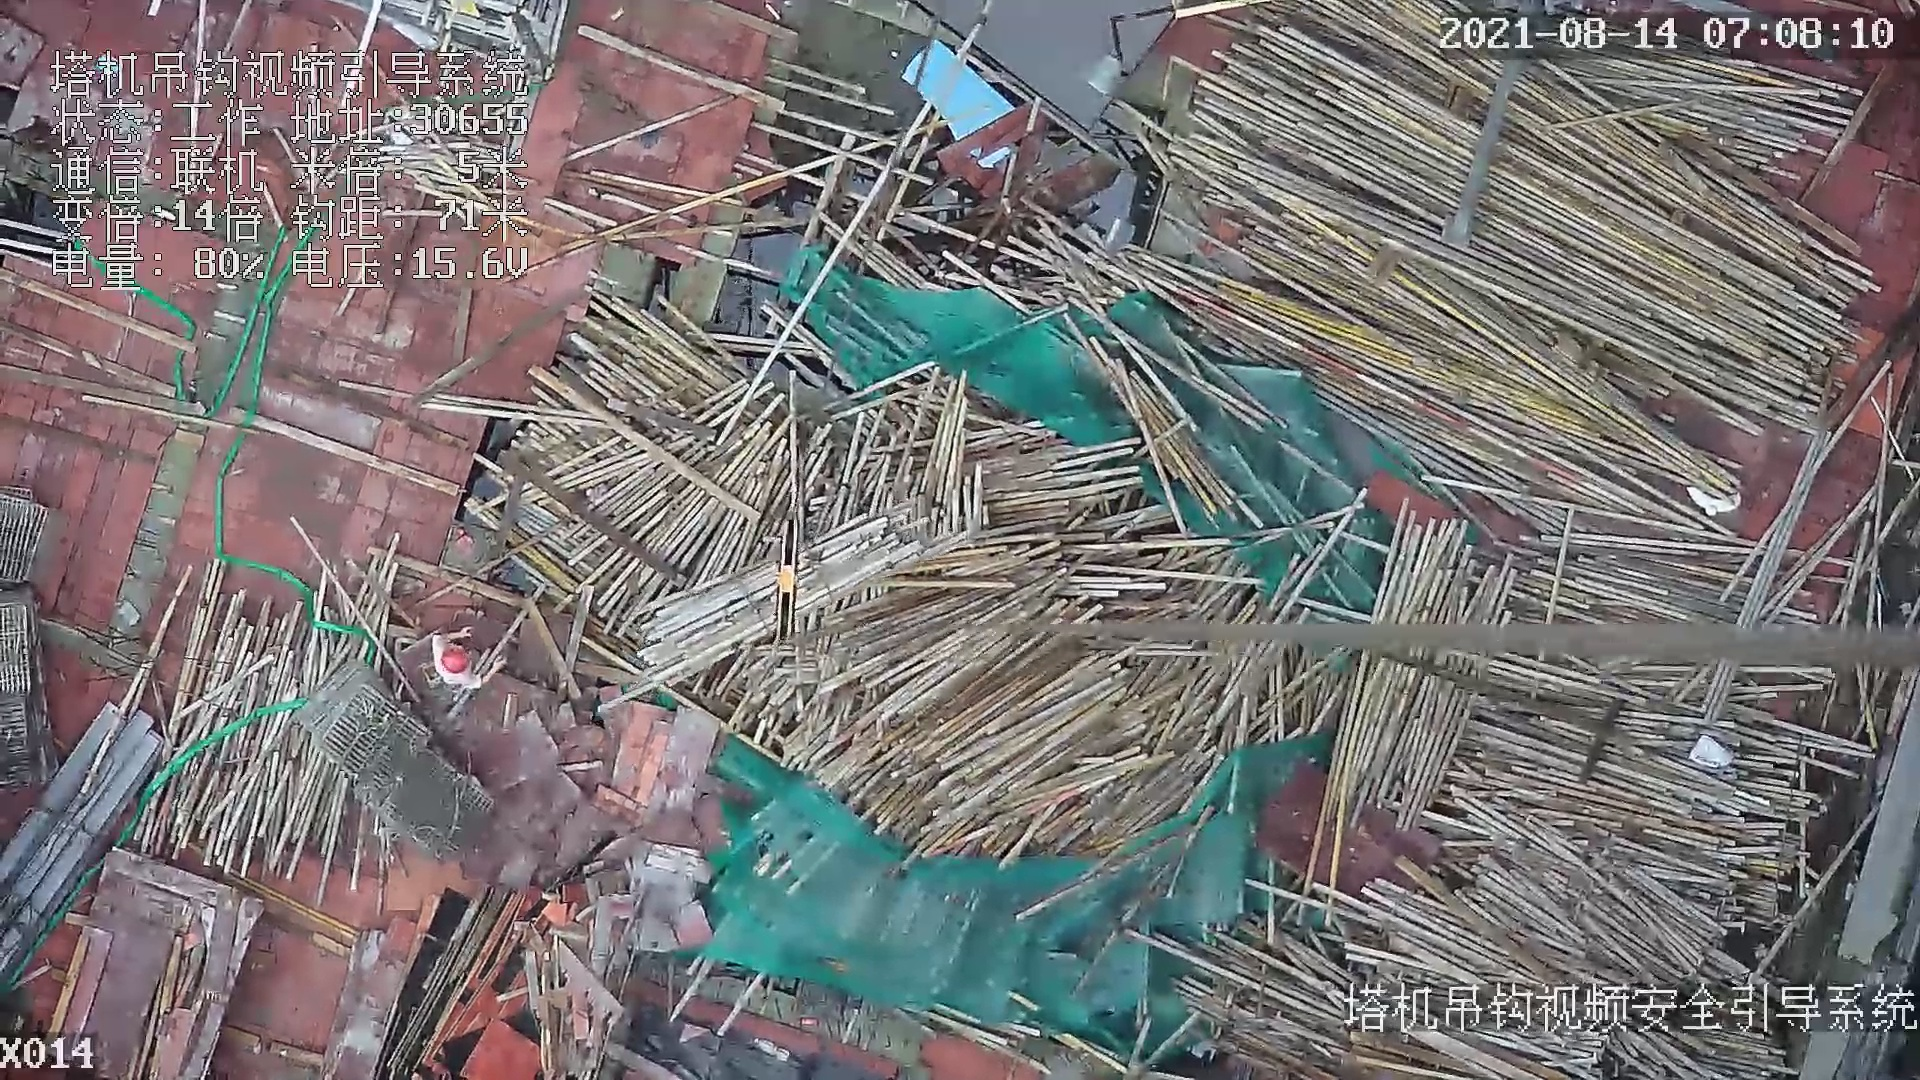helmet: (440, 646, 471, 675)
hook: (772, 515, 799, 646)
person: (424, 623, 505, 690)
